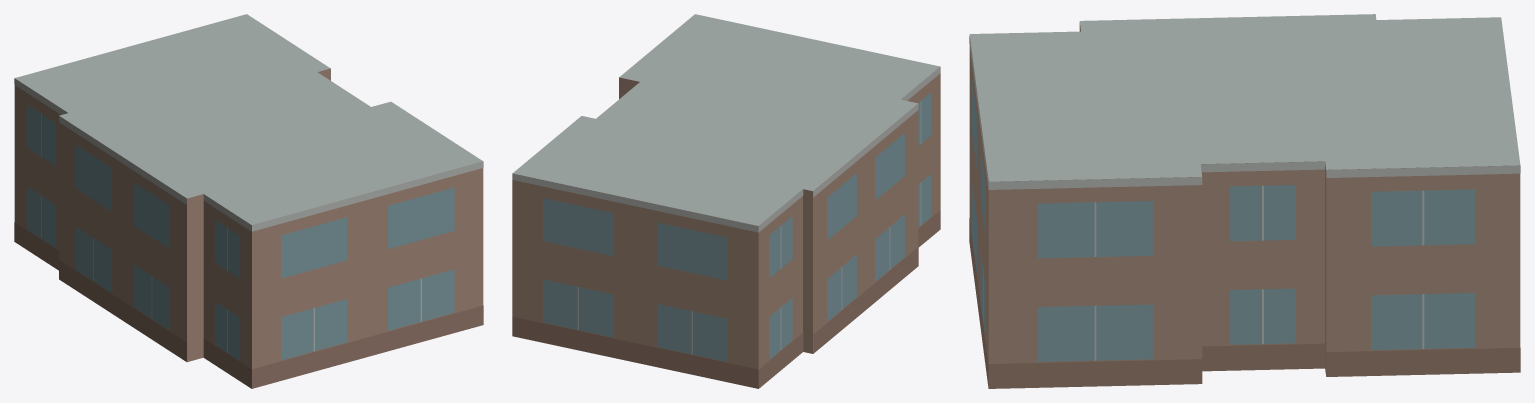
The model's file is survey-upis-32800704.glb.
The picture shows the model from 3 angles, left to right: view 1: azimuth 30°, elevation 25°; view 2: azimuth 150°, elevation 25°; view 3: azimuth 270°, elevation 25°; orthographic projection. The views are drawn at different scales.
Parts seen in each view (by area): view 1: survey-upis-32800704.tmp; view 2: survey-upis-32800704.tmp; view 3: survey-upis-32800704.tmp.
Boxes of the visible parts, x1,y1,x2,y2 form: survey-upis-32800704.tmp: [14, 14, 483, 388]; survey-upis-32800704.tmp: [512, 14, 940, 388]; survey-upis-32800704.tmp: [969, 14, 1520, 388].
Bounding box in the file's own units: 10.6 × 6.1 × 14.72.
